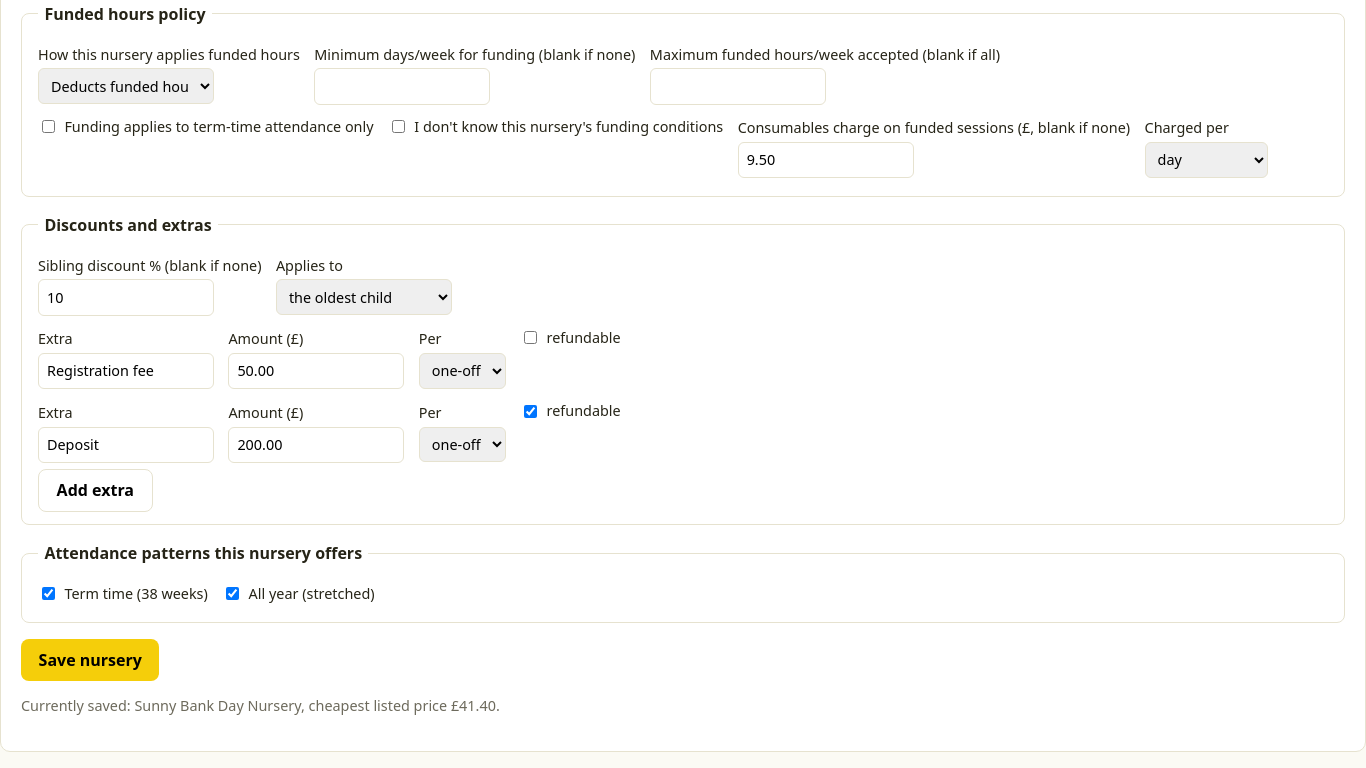
Test: NurseryForm › refuses to add a nursery whose name is already saved, without overwriting
(page scrolled)
Click the button "Save nursery" at (90, 660), box [21, 639, 160, 680]
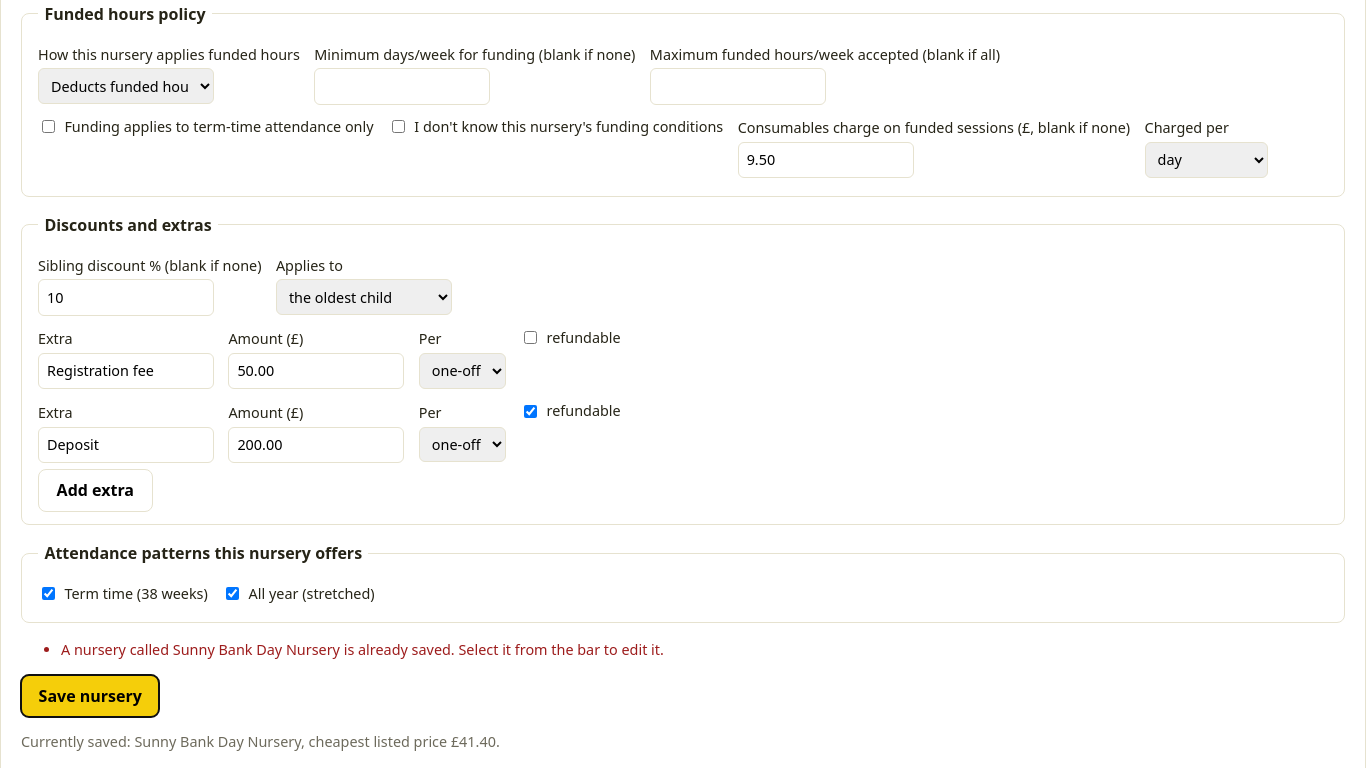
Result: the list item "A nursery called Sunny Bank Day Nursery is already saved. Select it from the bar to edit it." is shown at [61, 640, 664, 659]
